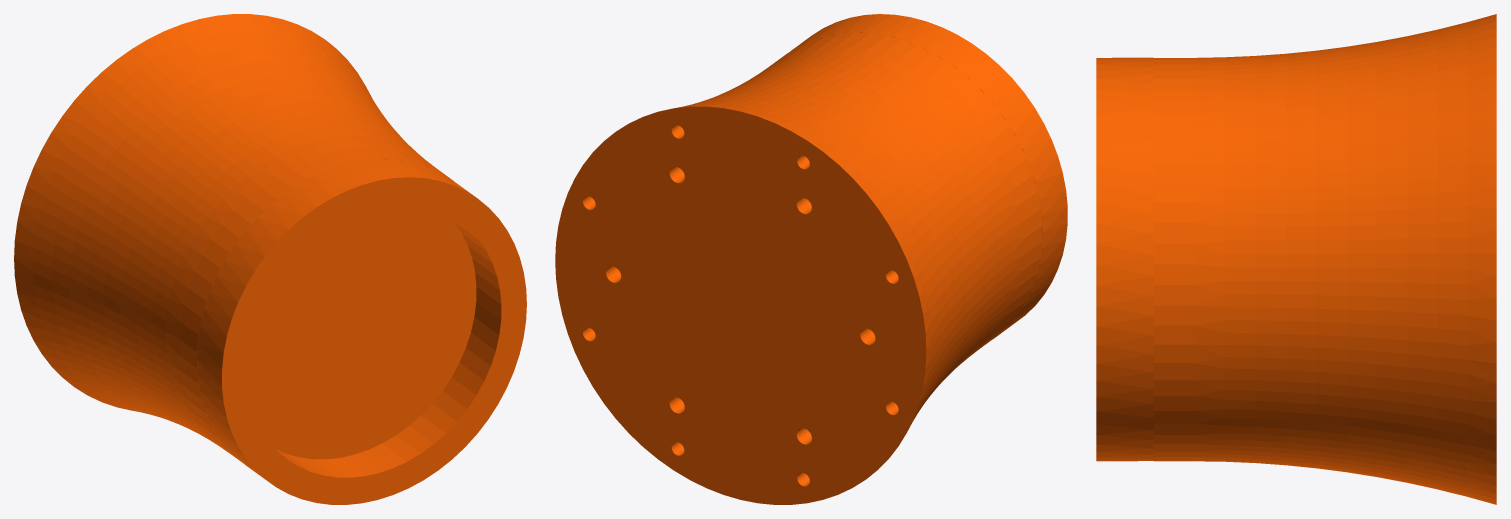
3 renders of one model, left to right at view 1: azimuth 30°, elevation 25°; view 2: azimuth 150°, elevation 25°; view 3: azimuth 270°, elevation 25°, orthographic. The views are drawn at different scales.
Parts seen in each view (by area): view 1: Node_0x2ba2d80; view 2: Node_0x2ba2d80; view 3: Node_0x2ba2d80.
Boxes of the visible parts, bbox=[...] form: Node_0x2ba2d80: bbox=[14, 14, 526, 504]; Node_0x2ba2d80: bbox=[555, 14, 1067, 504]; Node_0x2ba2d80: bbox=[1096, 14, 1496, 504].
Size of the model in its own units: 146 by 146 by 119.
